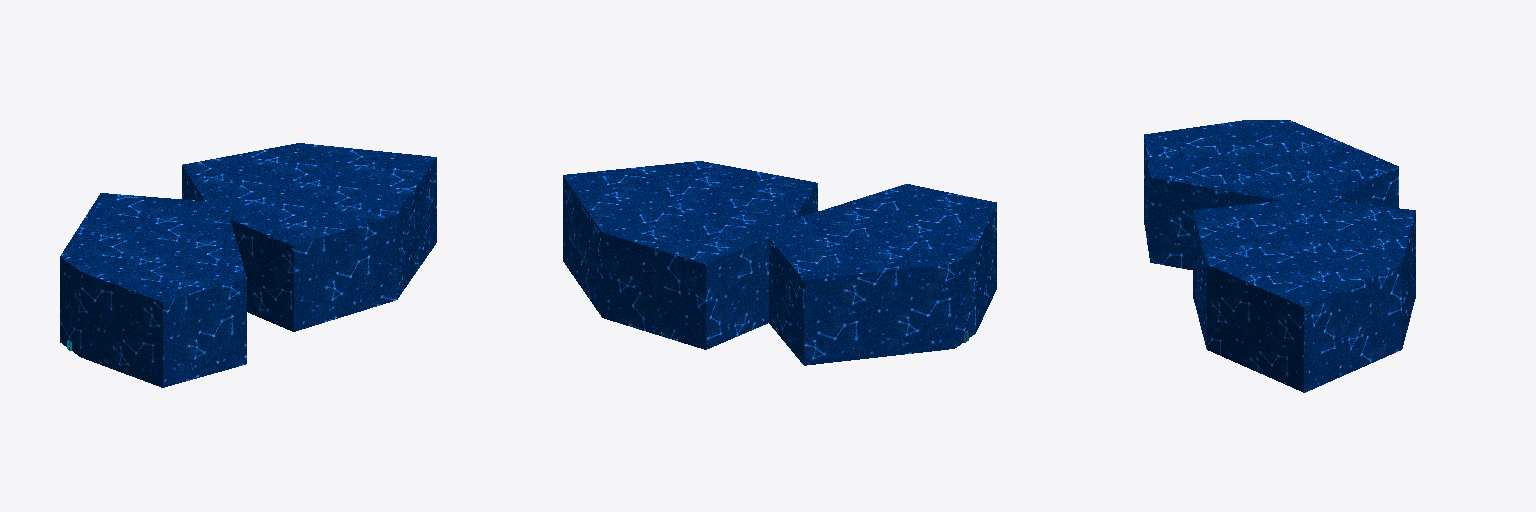
3 renders of one model, left to right at view 1: azimuth 30°, elevation 25°; view 2: azimuth 150°, elevation 25°; view 3: azimuth 270°, elevation 25°, orthographic.
Parts seen in each view (by area): view 1: mesh.007__105.007; view 2: mesh.007__105.007; view 3: mesh.007__105.007.
Part boxes in pixels (bbox=[...]): mesh.007__105.007: bbox=[60, 143, 436, 387]; mesh.007__105.007: bbox=[563, 161, 996, 365]; mesh.007__105.007: bbox=[1144, 120, 1415, 392].
Size of the model in its own units: 4490 by 951 by 2741.
Materials: 14 (12 with a texture image).